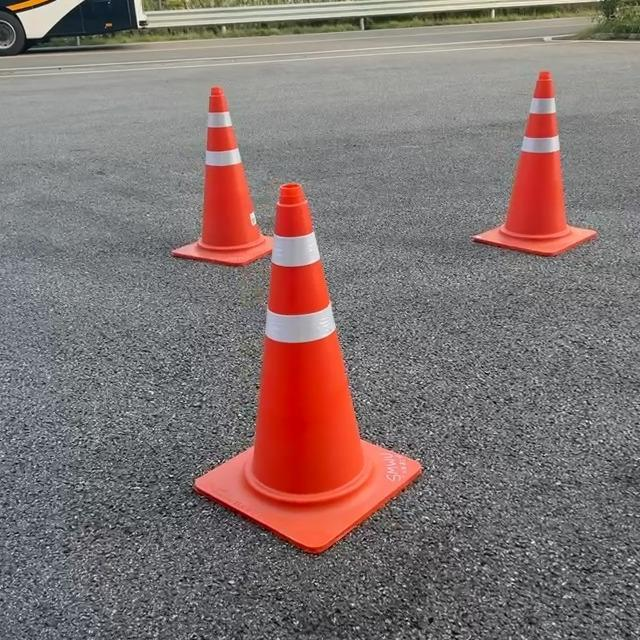fallen_object: (185, 147, 441, 592), (449, 42, 604, 266), (146, 69, 275, 285)
